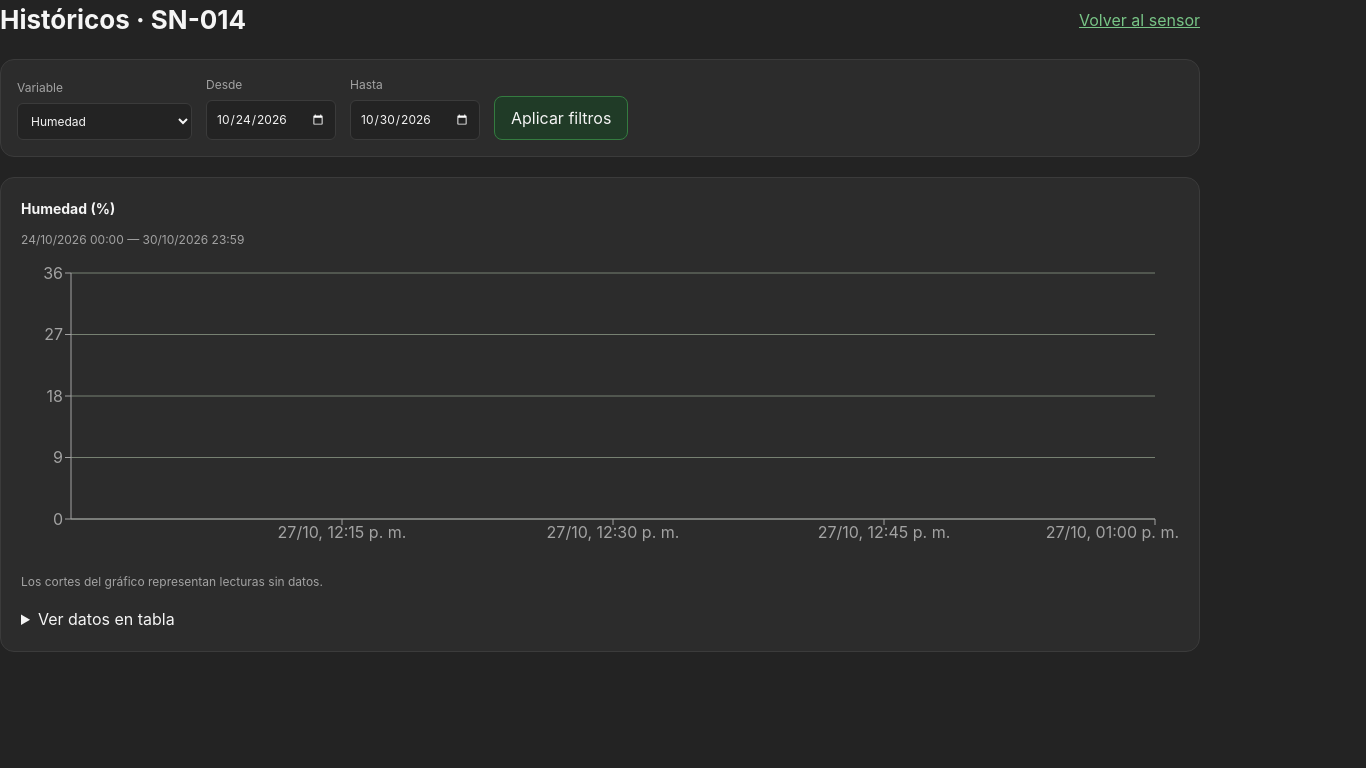
Scenario: históricos › muestra gráfico, unidades y tabla con huecos sin convertirlos a cero
The image size is (1366, 768).
expect the picture named "Gráfico de Humedad: 2 mediciones en %" is shown: met, box [21,261,1179,561]
Step 1. Click the heading "Ver datos en tabla" → [106, 619], box [38,609,175,629]
(page scrolled)
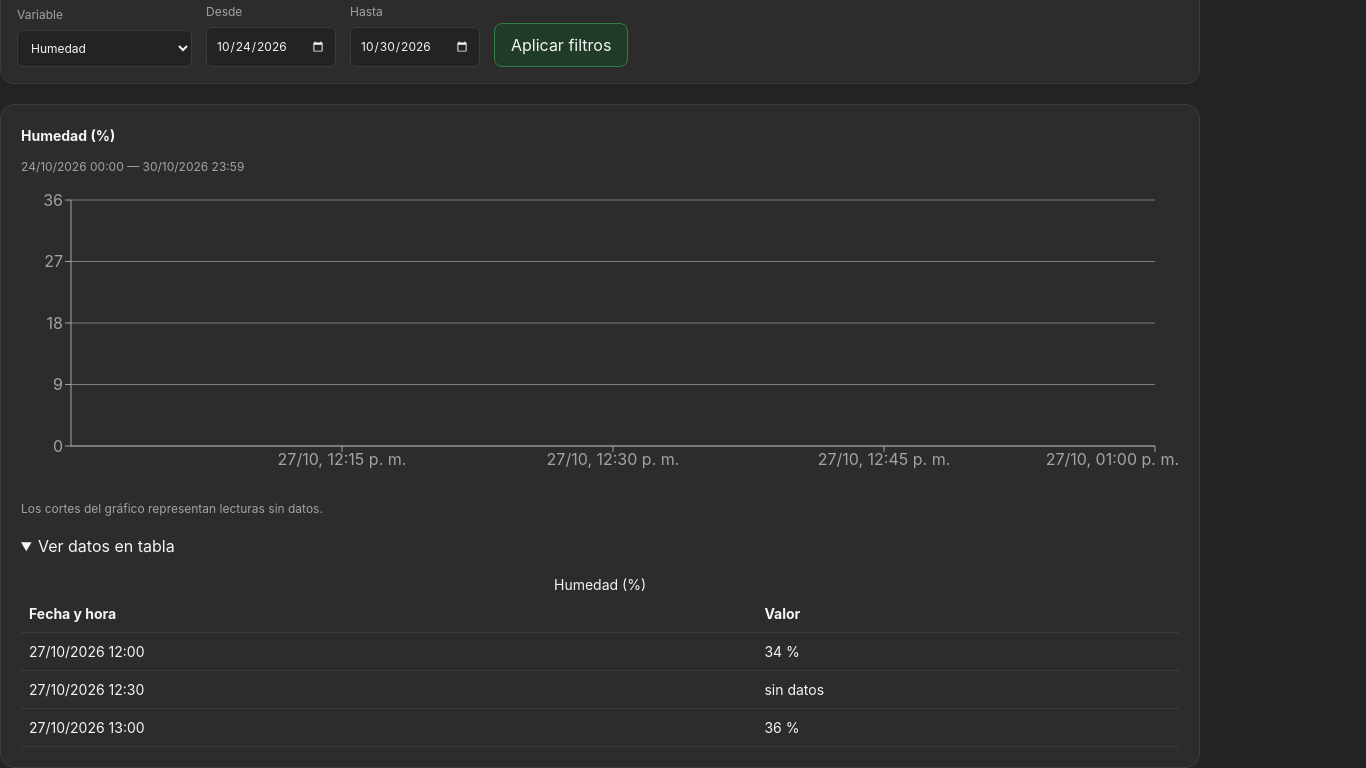
expect the table shows "sin datos": met, box [764,681,824,698]
expect the table shows "34 %": met, box [764,643,800,660]
